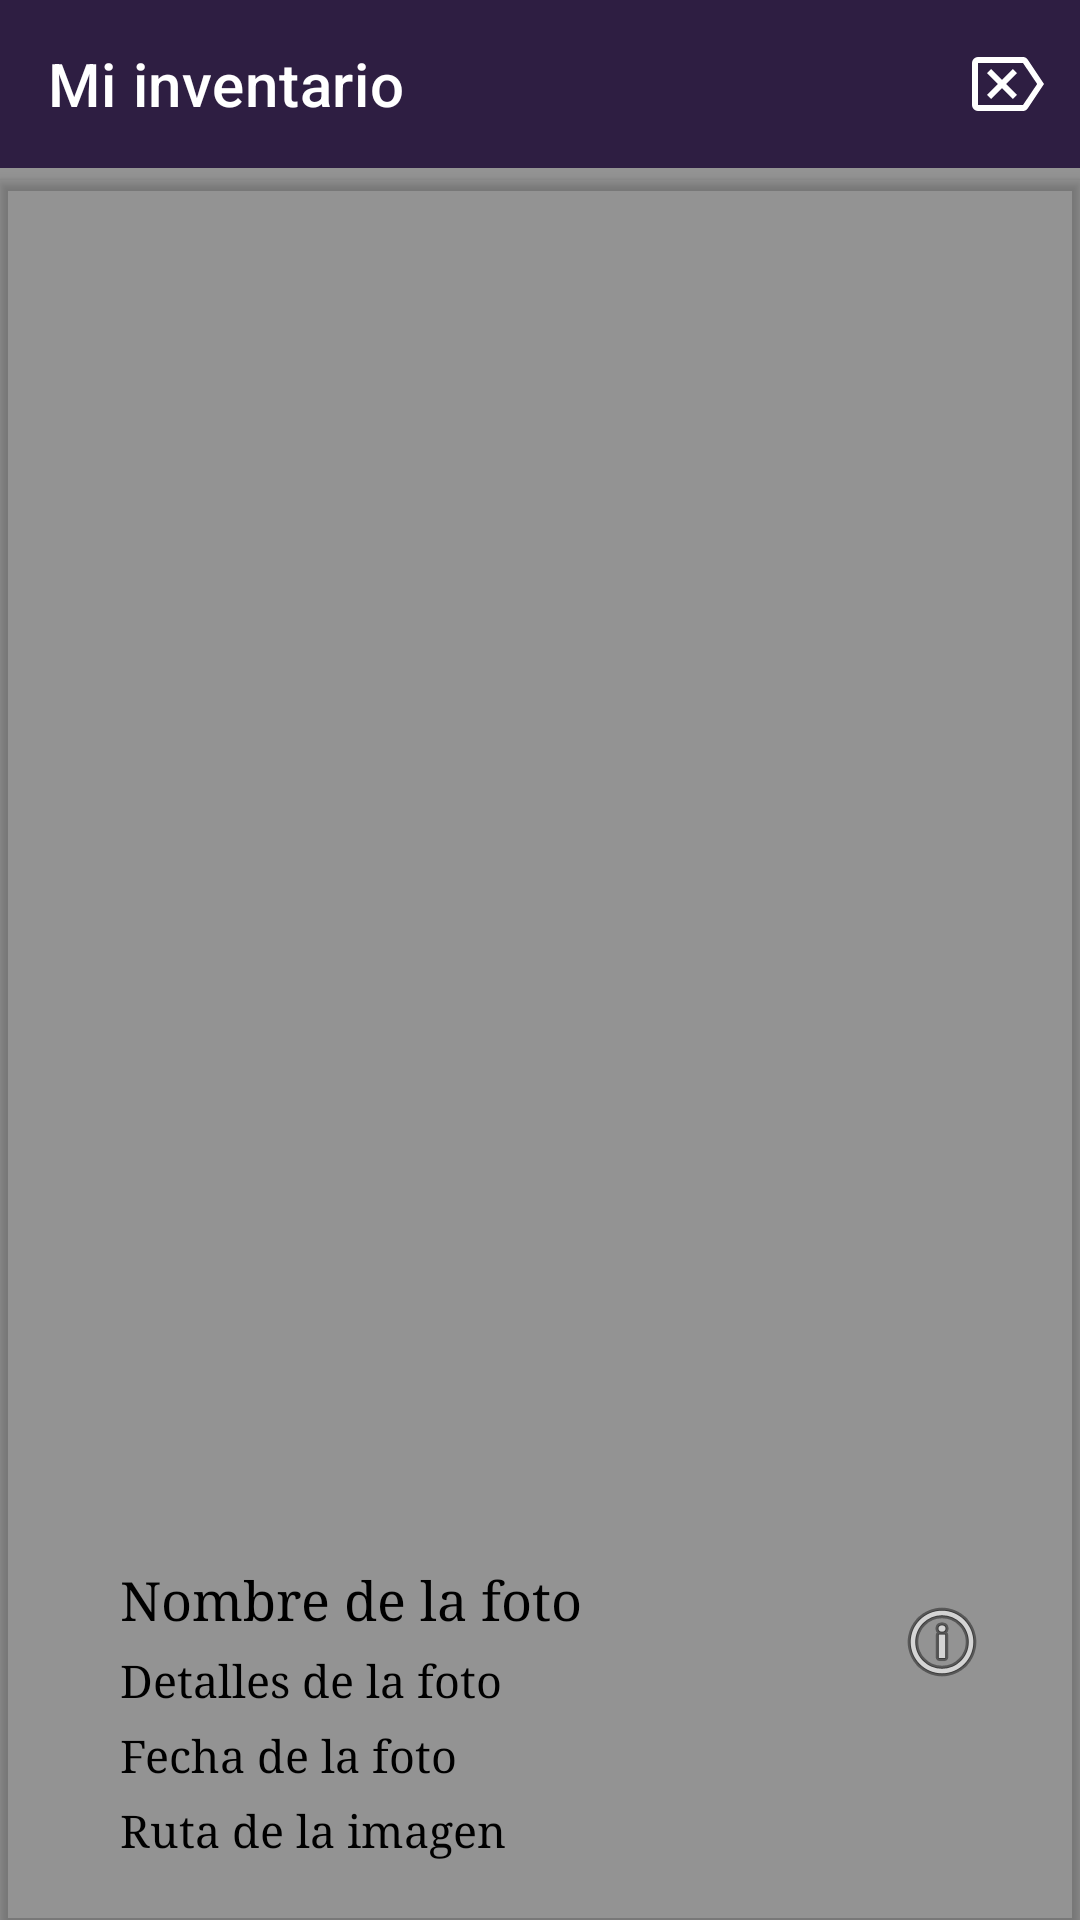

Point at icon controls on the screen. Image size 1080px x 1920px, points as [x,y].
info details: [942,1642]
